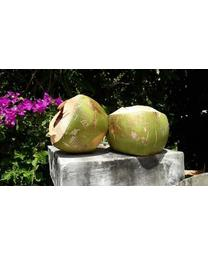coconut: (45, 87, 108, 167), (108, 95, 177, 162)
